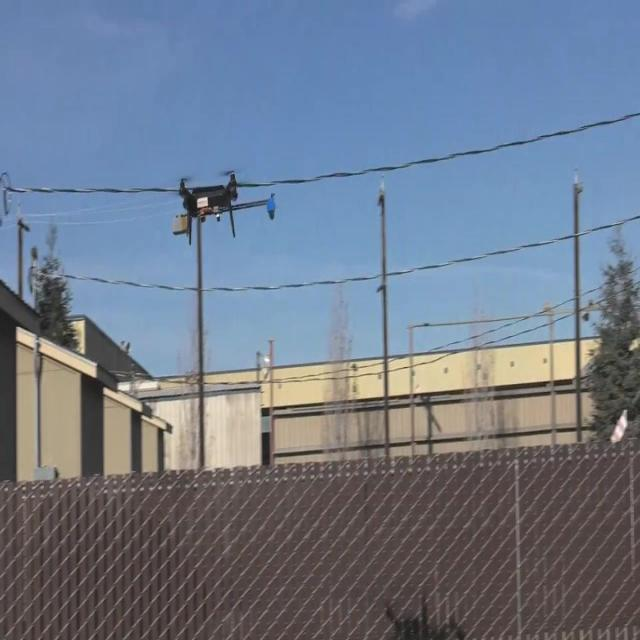UAV: (179, 171, 275, 245)
